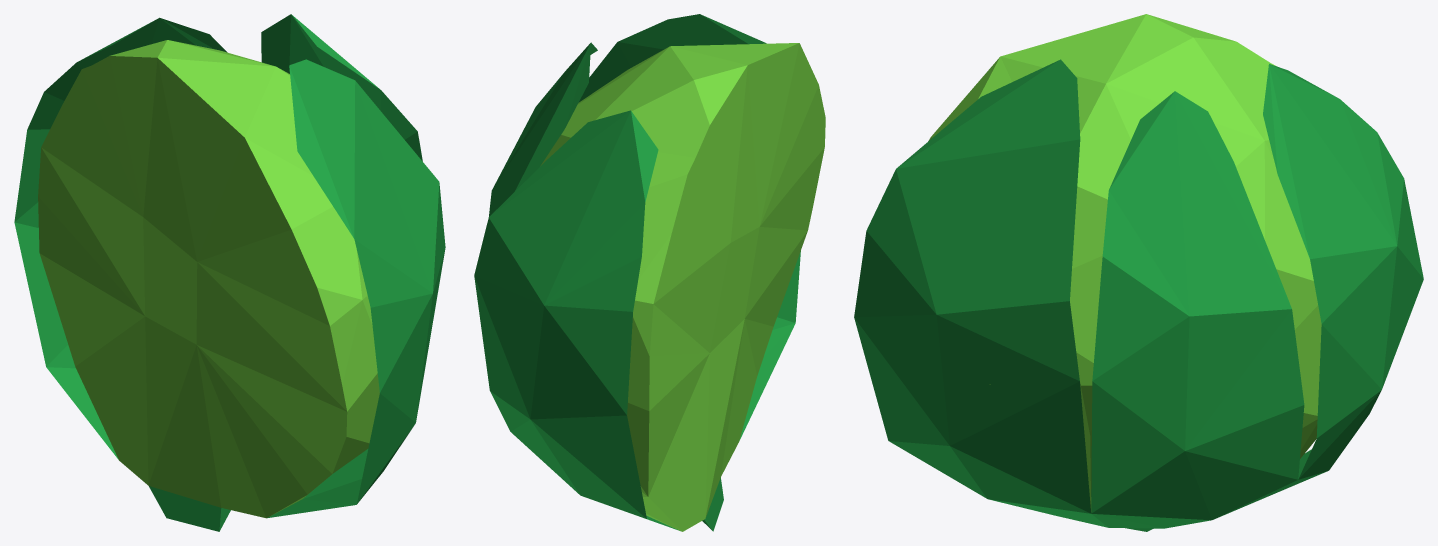
The model's file is Cabage_1.fbx.
3 renders of one model, left to right at view 1: azimuth 30°, elevation 25°; view 2: azimuth 150°, elevation 25°; view 3: azimuth 270°, elevation 25°, orthographic. The views are drawn at different scales.
Visible parts, largest first — view 1: Sphere.006; view 2: Sphere.006; view 3: Sphere.006.
Part boxes in pixels (left/top/right/bottom): Sphere.006: left=14, top=14, right=445, bottom=531; Sphere.006: left=474, top=14, right=825, bottom=531; Sphere.006: left=854, top=14, right=1423, bottom=531.
Size of the model in its own units: 353 by 338 by 198.
